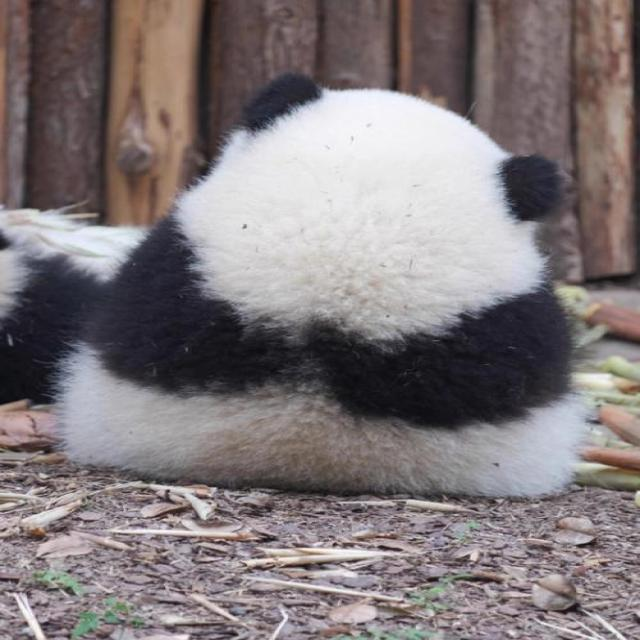panda: (56, 62, 607, 510)
